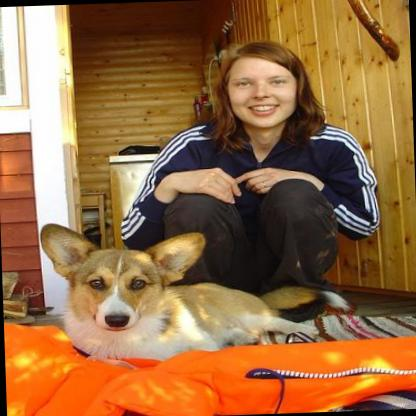Pembroke: (34, 208, 356, 364)
